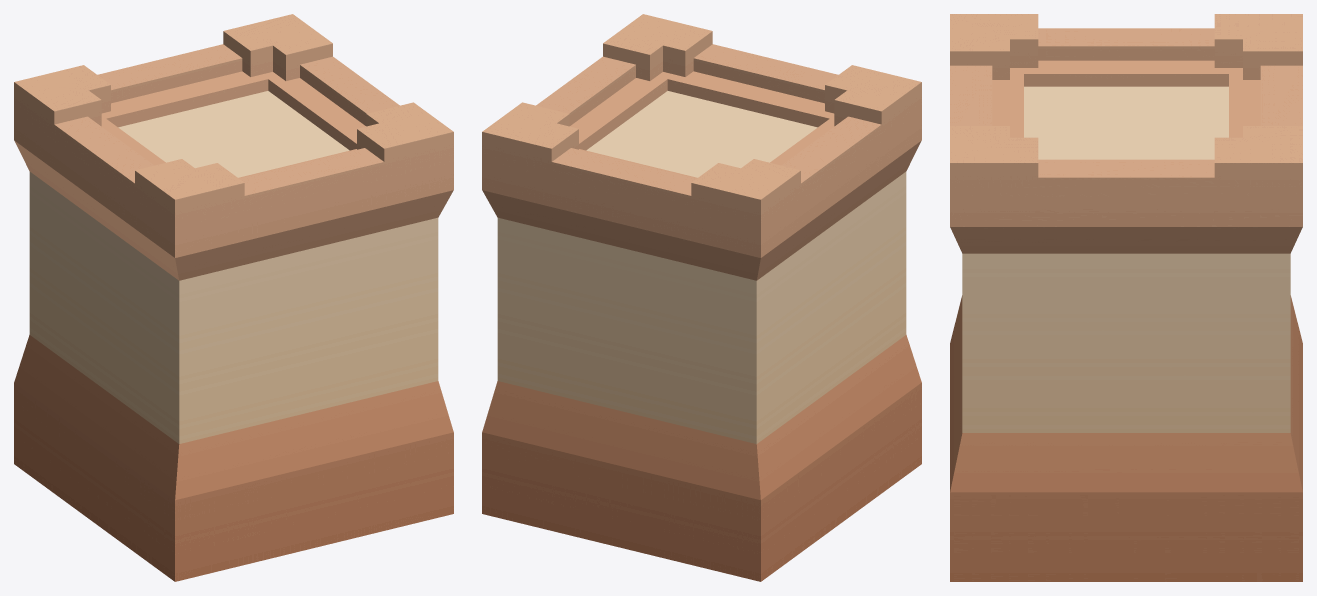
Rendered from tower-square.glb.
3 views of the same model, side by side, from view 1: azimuth 30°, elevation 25°; view 2: azimuth 150°, elevation 25°; view 3: azimuth 270°, elevation 25° (orthographic). The views are drawn at different scales.
Parts seen in each view (by area): view 1: tower-square; view 2: tower-square; view 3: tower-square.
Boxes of the visible parts, x1,y1,x2,y2 form: tower-square: (14, 14, 453, 581); tower-square: (482, 14, 921, 581); tower-square: (950, 14, 1302, 581).
Bounding box in the file's own units: 1 × 1.31 × 1.
Materials: 1 (1 with a texture image).
